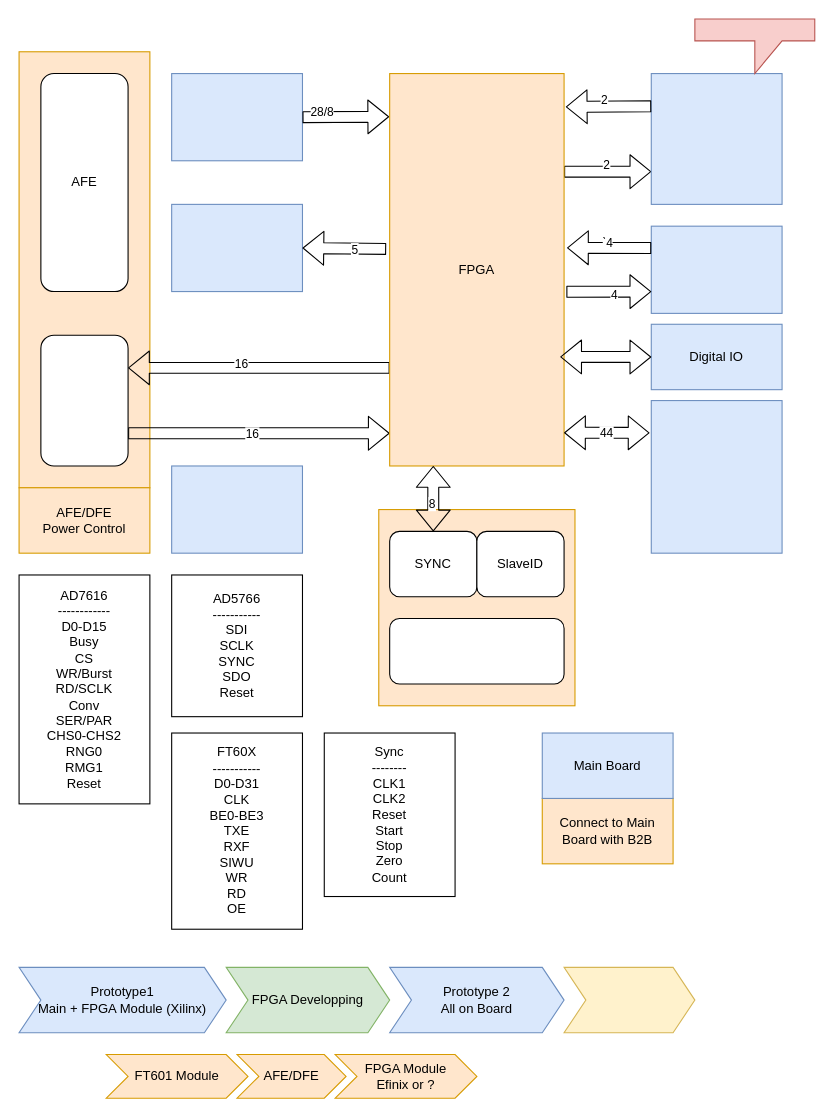
The diagram is 834 pixels wide and 1117 high, and some of its shapes have lost their labels. The shapes that lost their labels are listed below. From the top down, each one's box as (x1, y1, x2, y2) in pixels, then its label:
(171, 72, 302, 161): ADC AD7616
(650, 72, 782, 204): Board2Board LVDS TX/TXCK RX/RXCK
(171, 203, 302, 292): DAC AD5766
(650, 225, 782, 313): LVDS IO
(40, 334, 128, 466): DFE
(650, 399, 782, 553): USB3 System FT601 and FT2232
(171, 465, 302, 553): Power
(389, 617, 564, 684): PTP Based Sync
(563, 966, 695, 1033): Final Test
